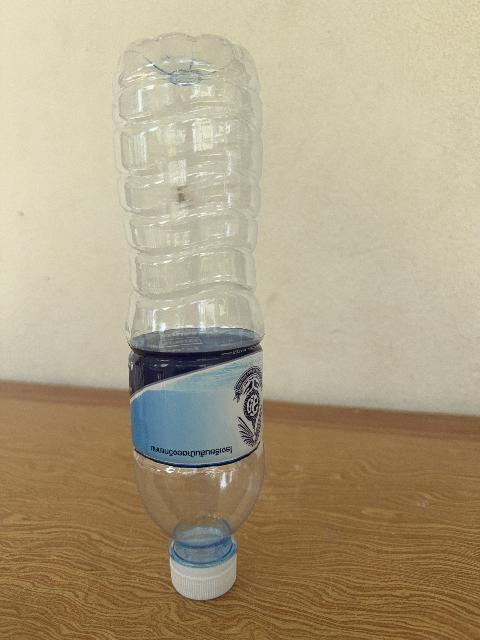bottle: (113, 34, 264, 599)
